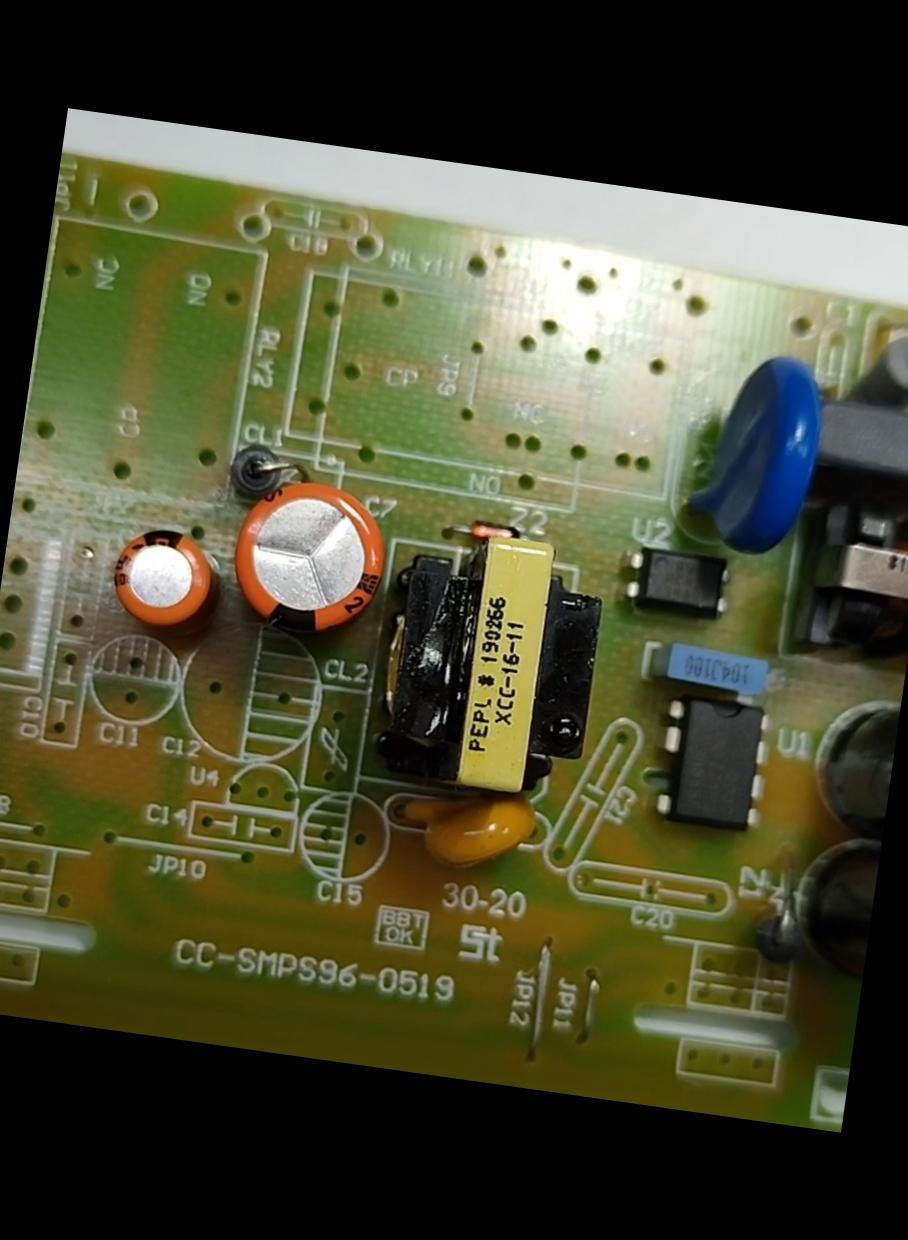Cap1: (210, 462, 408, 659)
Cap2: (90, 514, 230, 644)
Cap3: (794, 665, 904, 845)
Cap4: (782, 814, 882, 994)
MOSFET: (635, 667, 793, 844)
Mov: (671, 338, 838, 575)
Resistor: (835, 310, 907, 424)
Transformer: (348, 508, 629, 818), (762, 468, 907, 689)
